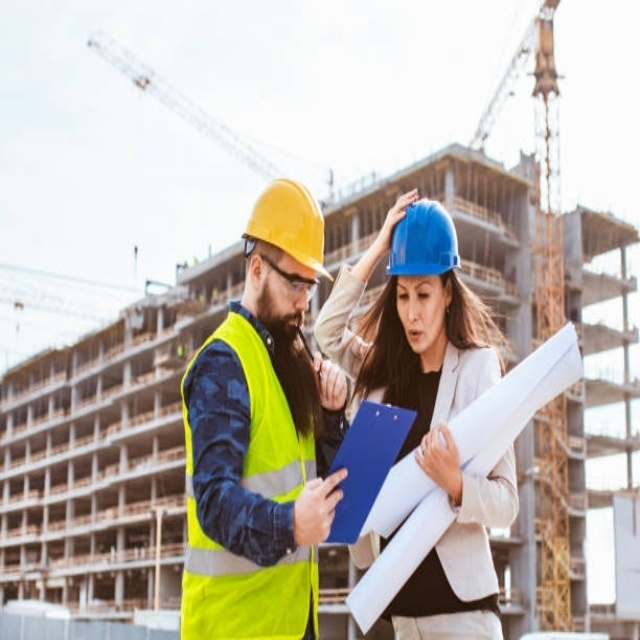Gafas: (250, 244, 321, 300)
Sin_gafas: (395, 273, 439, 306)
Sin_guantes: (293, 469, 349, 549), (414, 423, 463, 499), (375, 179, 420, 254), (310, 350, 350, 414)
Sin_mascara: (277, 309, 306, 340), (403, 322, 431, 350)
